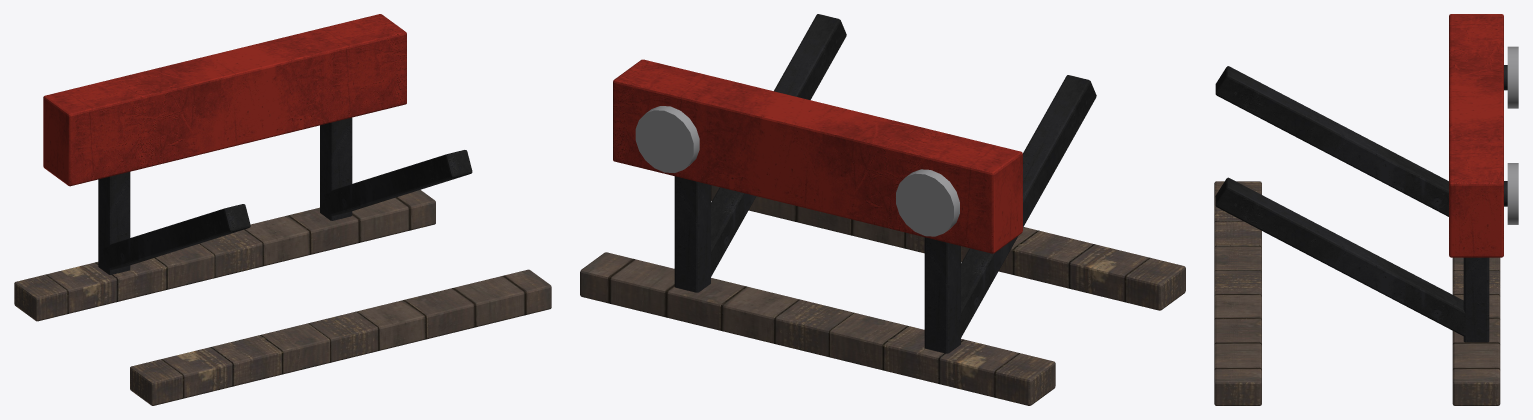
Rendered from buffer_stop.glb.
3 renders of one model, left to right at view 1: azimuth 30°, elevation 25°; view 2: azimuth 150°, elevation 25°; view 3: azimuth 270°, elevation 25°, orthographic. The views are drawn at different scales.
Visible parts, largest first — view 1: Body; view 2: Body; view 3: Body.
Boxes of the visible parts, x1,y1,x2,y2 form: Body: (14, 14, 551, 405); Body: (580, 14, 1185, 405); Body: (1214, 14, 1518, 405).
Size of the model in its own units: 2.6 by 1.25 by 1.66.
Materials: 4 (3 with a texture image).
